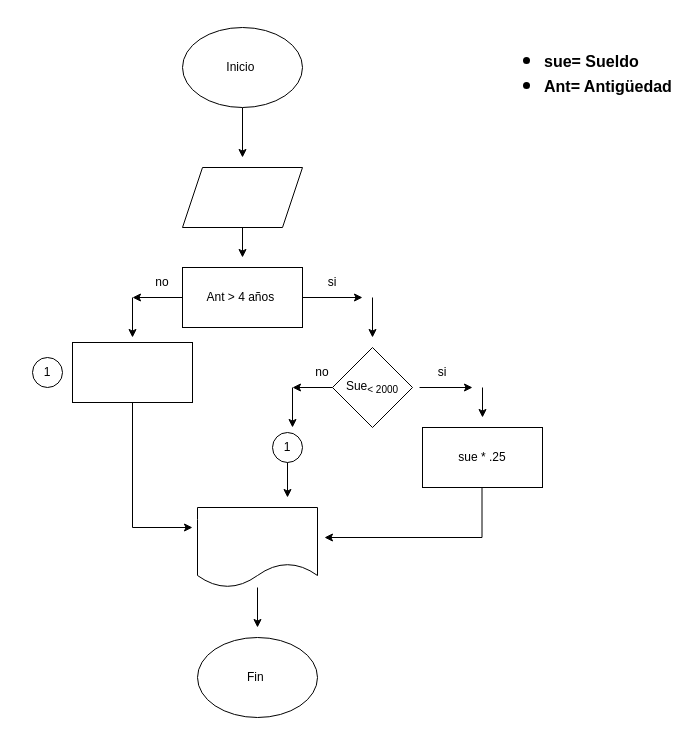
Some shapes in this 699 by 735 pixel diagram are drawn without their labels. Each missing label, with the centre of its shape:
"bono" goes at point 257,547.
"Sue" goes at point 242,197.
"sue * .20" goes at point 132,372.
